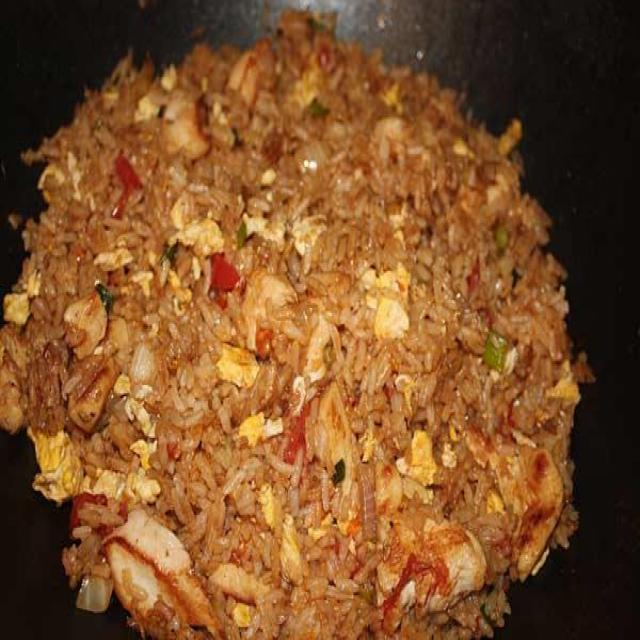Nasi Goreng: (2, 8, 592, 637)
